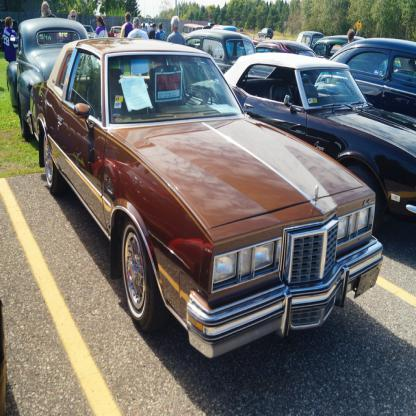Car: (4, 12, 416, 360)
